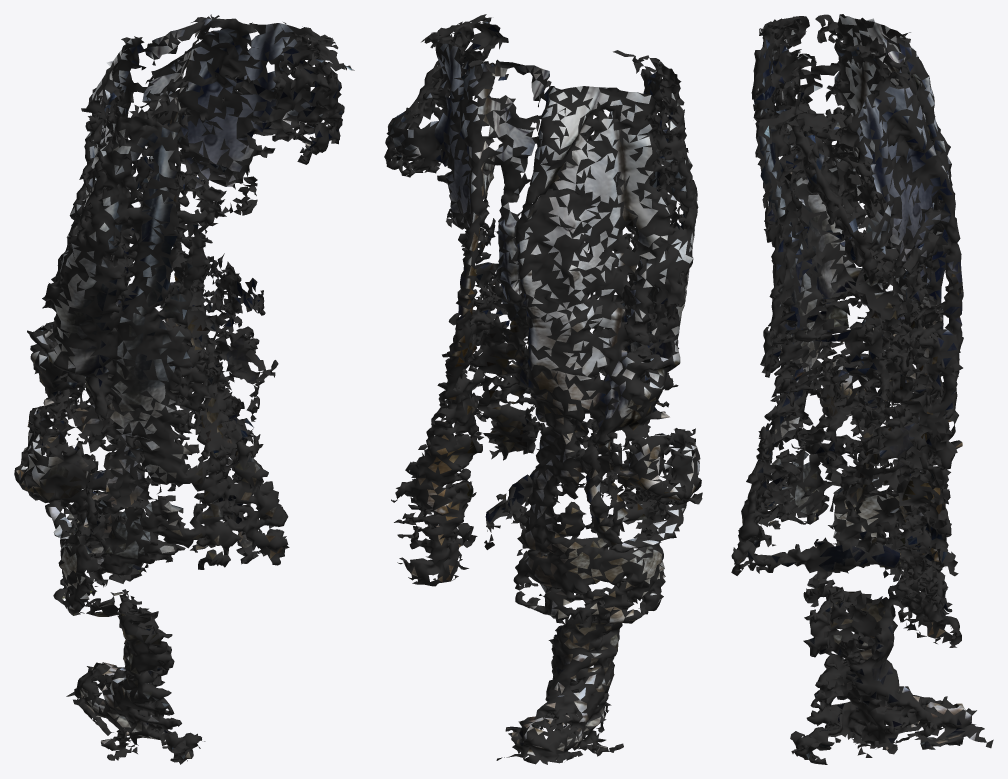
File: statue34_q_sgbm.glb
The picture shows the model from 3 angles, left to right: view 1: azimuth 30°, elevation 25°; view 2: azimuth 150°, elevation 25°; view 3: azimuth 270°, elevation 25°; orthographic projection. The views are drawn at different scales.
Parts seen in each view (by area): view 1: world; view 2: world; view 3: world.
Part boxes in pixels (box(x1,y1,x2,y2)): world: box(14, 14, 354, 764); world: box(384, 14, 702, 764); world: box(731, 14, 993, 764).
Size of the model in its own units: 0.0237 by 0.0496 by 0.016.
1 material, 1 textured.
